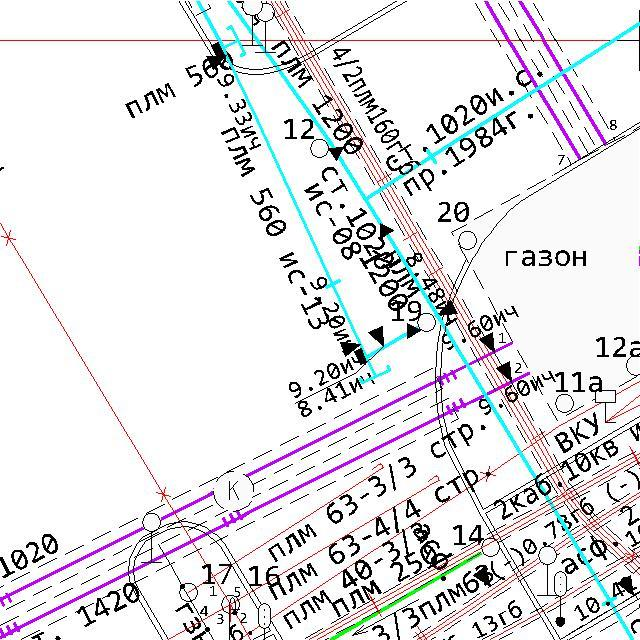bushes: (212, 469, 255, 512)
mark: (366, 324, 386, 348), (338, 338, 362, 358), (473, 565, 492, 588), (494, 360, 513, 382), (616, 575, 635, 597), (403, 321, 423, 341), (478, 331, 496, 353), (439, 299, 459, 318), (378, 220, 395, 242), (326, 145, 346, 162), (206, 54, 227, 70)
well: (554, 392, 576, 414), (480, 536, 501, 558), (457, 230, 479, 250), (178, 582, 198, 602)
